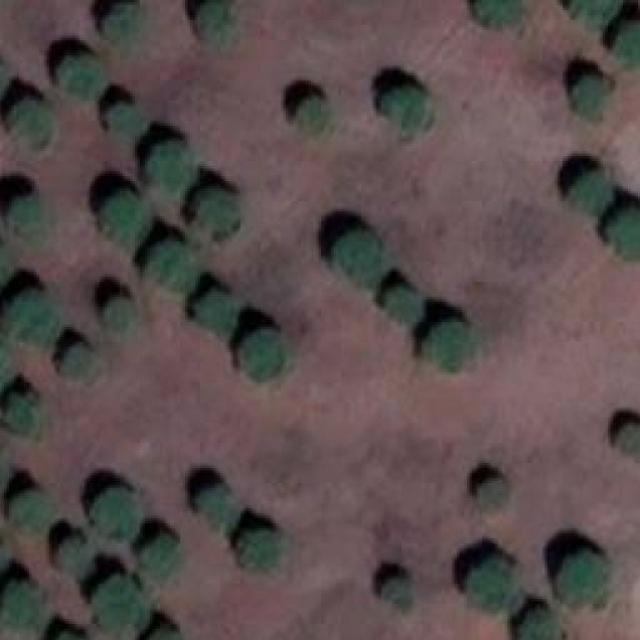Tree: (0, 288, 61, 352), (552, 551, 613, 612), (92, 569, 146, 634), (183, 189, 239, 245), (145, 139, 195, 199), (334, 228, 384, 287), (100, 188, 148, 247), (94, 486, 145, 539), (142, 236, 190, 292), (422, 317, 472, 370), (467, 553, 512, 609), (238, 327, 284, 380), (378, 85, 427, 134), (1, 488, 49, 536), (193, 285, 244, 330), (12, 99, 55, 152), (2, 582, 47, 632), (145, 533, 183, 589), (52, 345, 96, 391), (235, 528, 281, 572), (105, 2, 145, 50), (379, 285, 423, 328), (54, 538, 95, 584), (574, 75, 612, 124), (107, 101, 145, 149), (62, 53, 103, 97), (2, 392, 42, 436), (567, 0, 623, 28), (197, 0, 234, 42), (291, 95, 326, 139), (572, 171, 610, 211), (105, 295, 140, 338), (520, 606, 564, 640), (477, 475, 515, 513), (610, 206, 640, 254), (9, 196, 44, 237), (198, 488, 235, 526), (475, 0, 525, 28), (613, 23, 640, 69), (382, 576, 416, 612), (613, 420, 640, 458), (143, 626, 186, 640)
